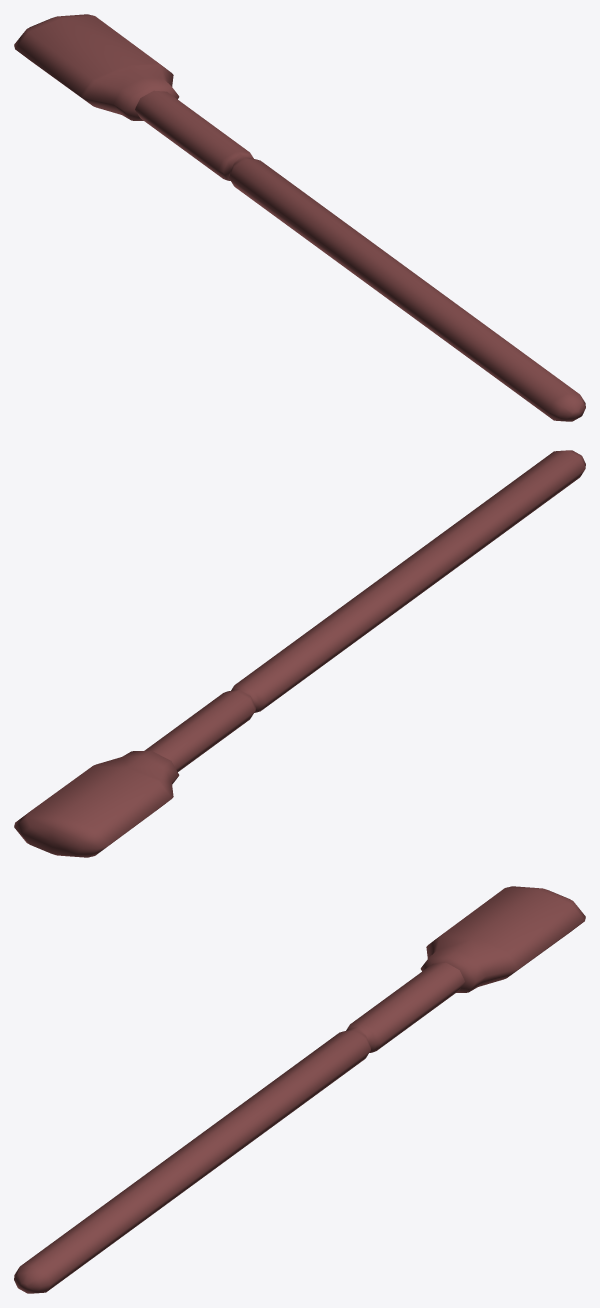
Rendered from Swab.fbx.
3 renders of one model, top to bottom at view 1: azimuth 30°, elevation 25°; view 2: azimuth 150°, elevation 25°; view 3: azimuth 330°, elevation 25°, orthographic.
Parts seen in each view (by area): view 1: Swab; view 2: Swab; view 3: Swab.
Boxes of the visible parts, x1,y1,x2,y2 form: Swab: (14, 14, 585, 421); Swab: (14, 450, 585, 857); Swab: (14, 886, 585, 1293).
Size of the model in its own units: 0.6624 by 6.41 by 0.2622.
